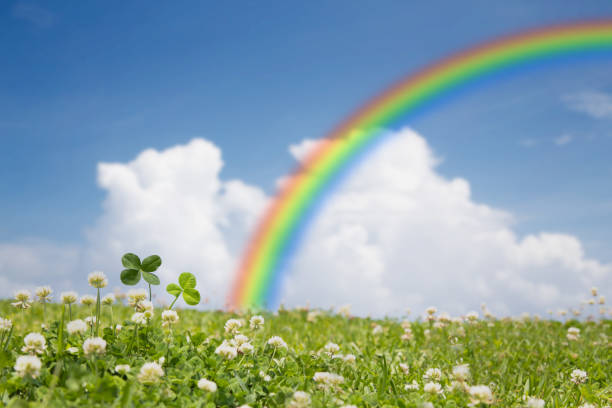daikon: (112, 242, 167, 290), (164, 267, 207, 307)
